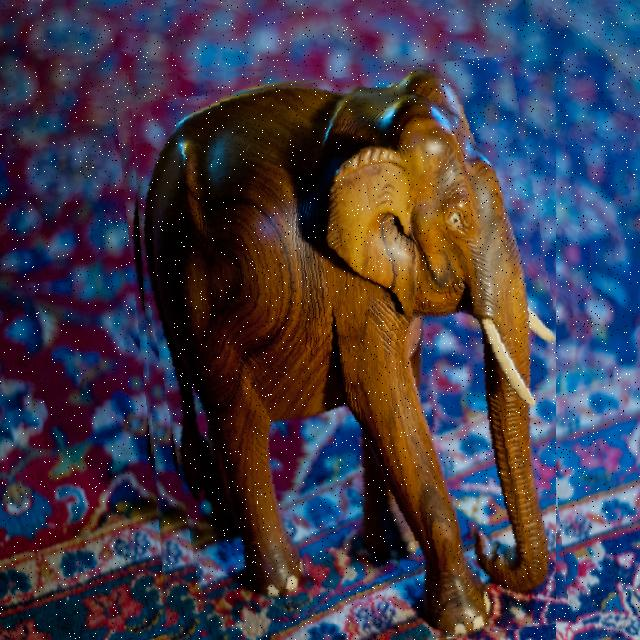elephant: (129, 64, 556, 640)
